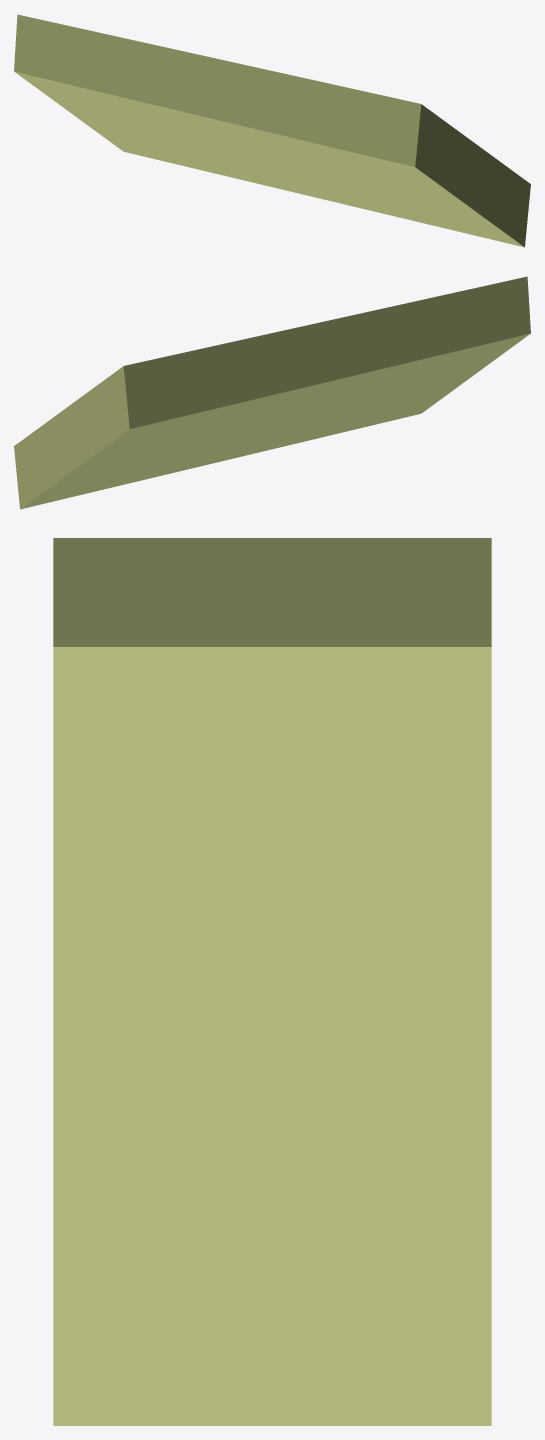
3 renders of one model, top to bottom at view 1: azimuth 30°, elevation 25°; view 2: azimuth 150°, elevation 25°; view 3: azimuth 270°, elevation 25°, orthographic. The views are drawn at different scales.
Parts seen in each view (by area): view 1: 0_2_1_3_0_3_1_2_1_0; view 2: 0_2_1_3_0_3_1_2_1_0; view 3: 0_2_1_3_0_3_1_2_1_0.
Part boxes in pixels (x1,y1,x2,y2): 0_2_1_3_0_3_1_2_1_0: (14,14,530,247); 0_2_1_3_0_3_1_2_1_0: (14,276,530,509); 0_2_1_3_0_3_1_2_1_0: (53,538,491,1425).
Bounding box in the file's own units: 12.87 × 7.54 × 6.
